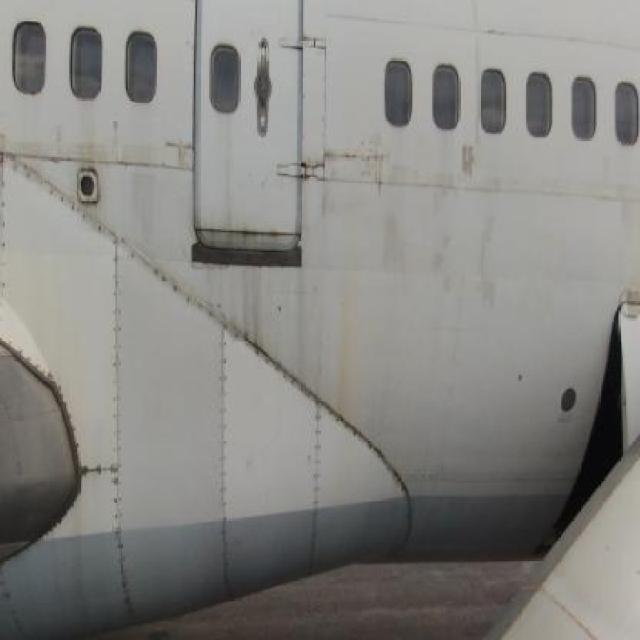Missing-Rivet: (78, 452, 137, 490)
Rust: (334, 229, 363, 428), (238, 260, 272, 362), (206, 208, 294, 244), (73, 118, 105, 170)
Scartch: (379, 171, 515, 311), (326, 138, 391, 170)
